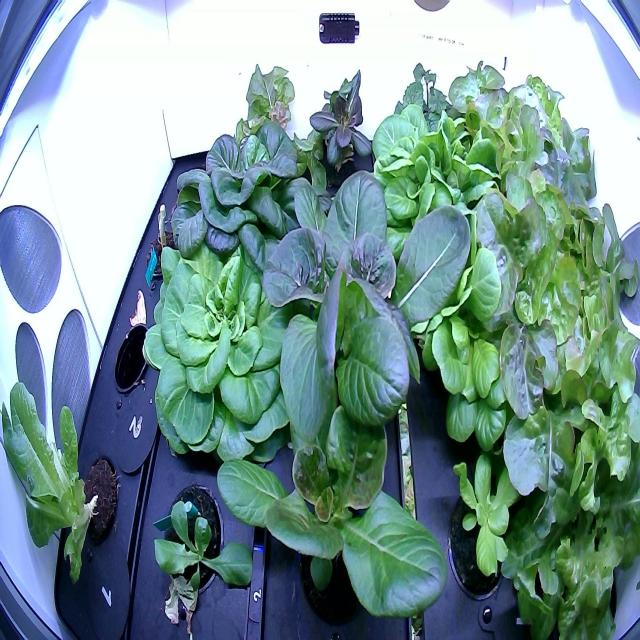Ready: (352, 94, 548, 332)
empty_pod: (106, 310, 154, 406)
young: (250, 156, 480, 467), (212, 376, 458, 636), (140, 222, 315, 482), (1, 374, 119, 590), (159, 112, 305, 270), (142, 467, 258, 626), (437, 442, 530, 612), (298, 62, 379, 188)
